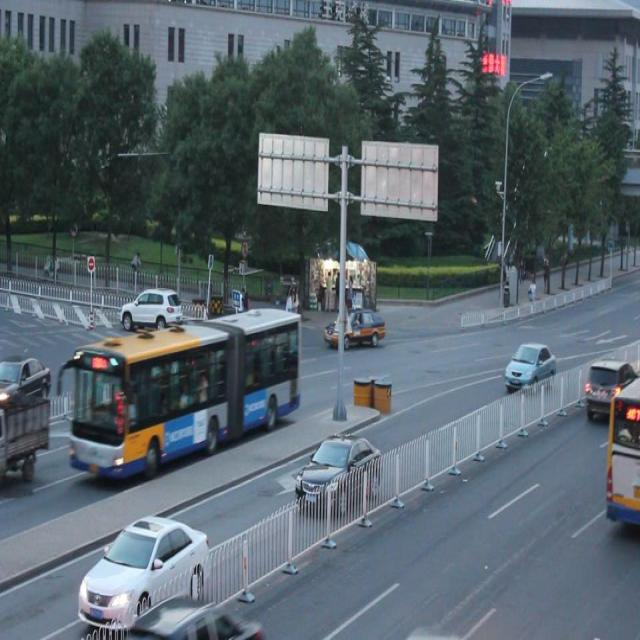bus: (0, 400, 50, 482)
car: (77, 512, 211, 626), (296, 433, 382, 513), (127, 592, 253, 640), (582, 357, 640, 414), (504, 338, 556, 391), (324, 305, 386, 349), (1, 352, 54, 403), (124, 288, 180, 334)
van: (72, 311, 300, 482), (606, 376, 640, 528)
